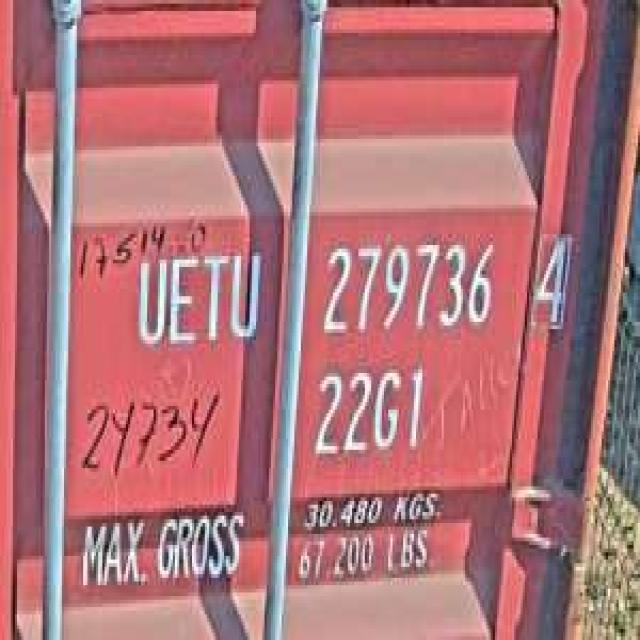dv: (531, 227, 574, 336)
owner: (130, 242, 265, 358)
serial: (312, 230, 502, 344)
size: (309, 358, 427, 464)
